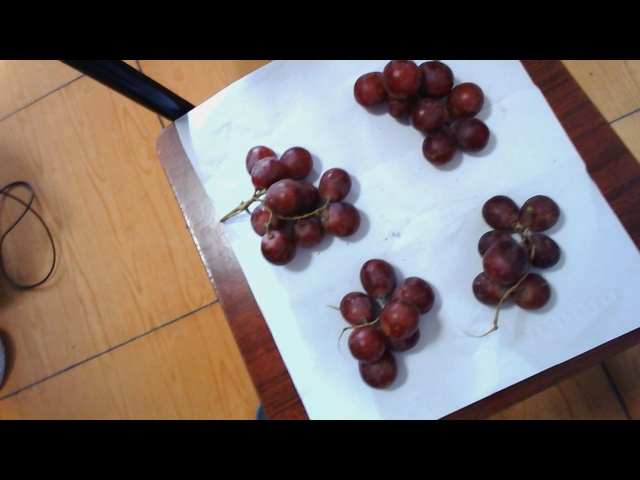grape: (232, 132, 357, 261), (352, 62, 496, 158), (337, 256, 433, 388), (464, 192, 562, 318)
